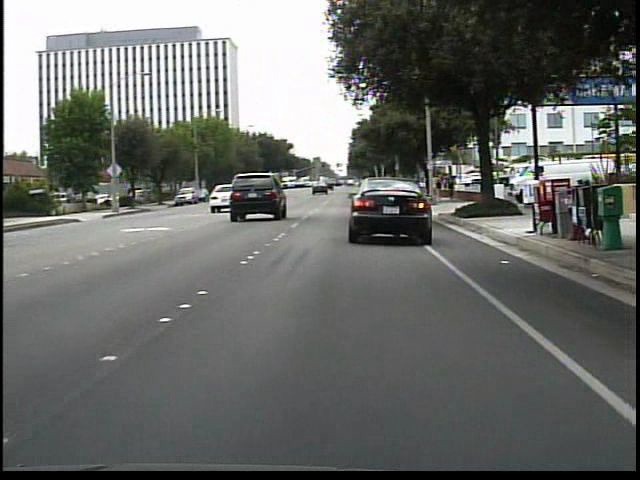person: (445, 177, 456, 202), (434, 177, 445, 202)
